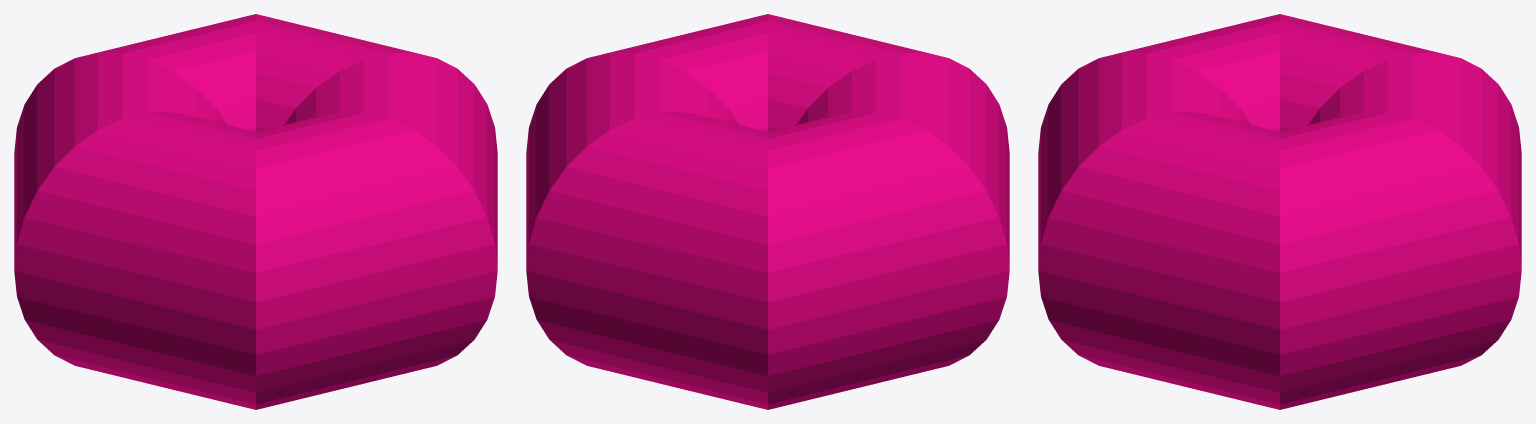
File: ring6.gltf
3 views of the same model, side by side, from view 1: azimuth 30°, elevation 25°; view 2: azimuth 150°, elevation 25°; view 3: azimuth 270°, elevation 25° (orthographic).
Parts seen in each view (by area): view 1: Torus.007; view 2: Torus.007; view 3: Torus.007.
Part boxes in pixels (x1,y1,x2,y2): Torus.007: [14, 14, 497, 409]; Torus.007: [526, 14, 1009, 409]; Torus.007: [1038, 14, 1521, 409].
Size of the model in its own units: 2 by 0.9945 by 1.73.
